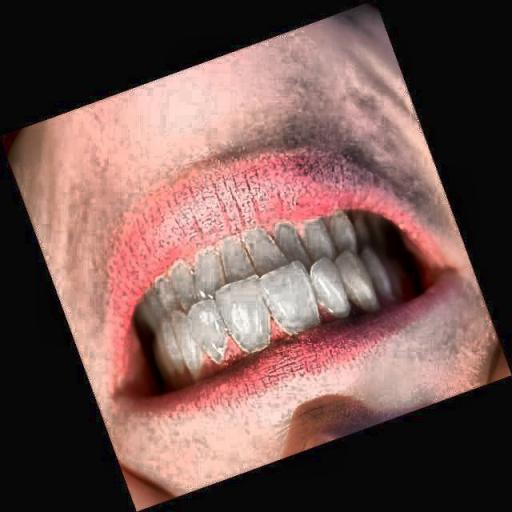Healthy: (100, 171, 417, 384)
